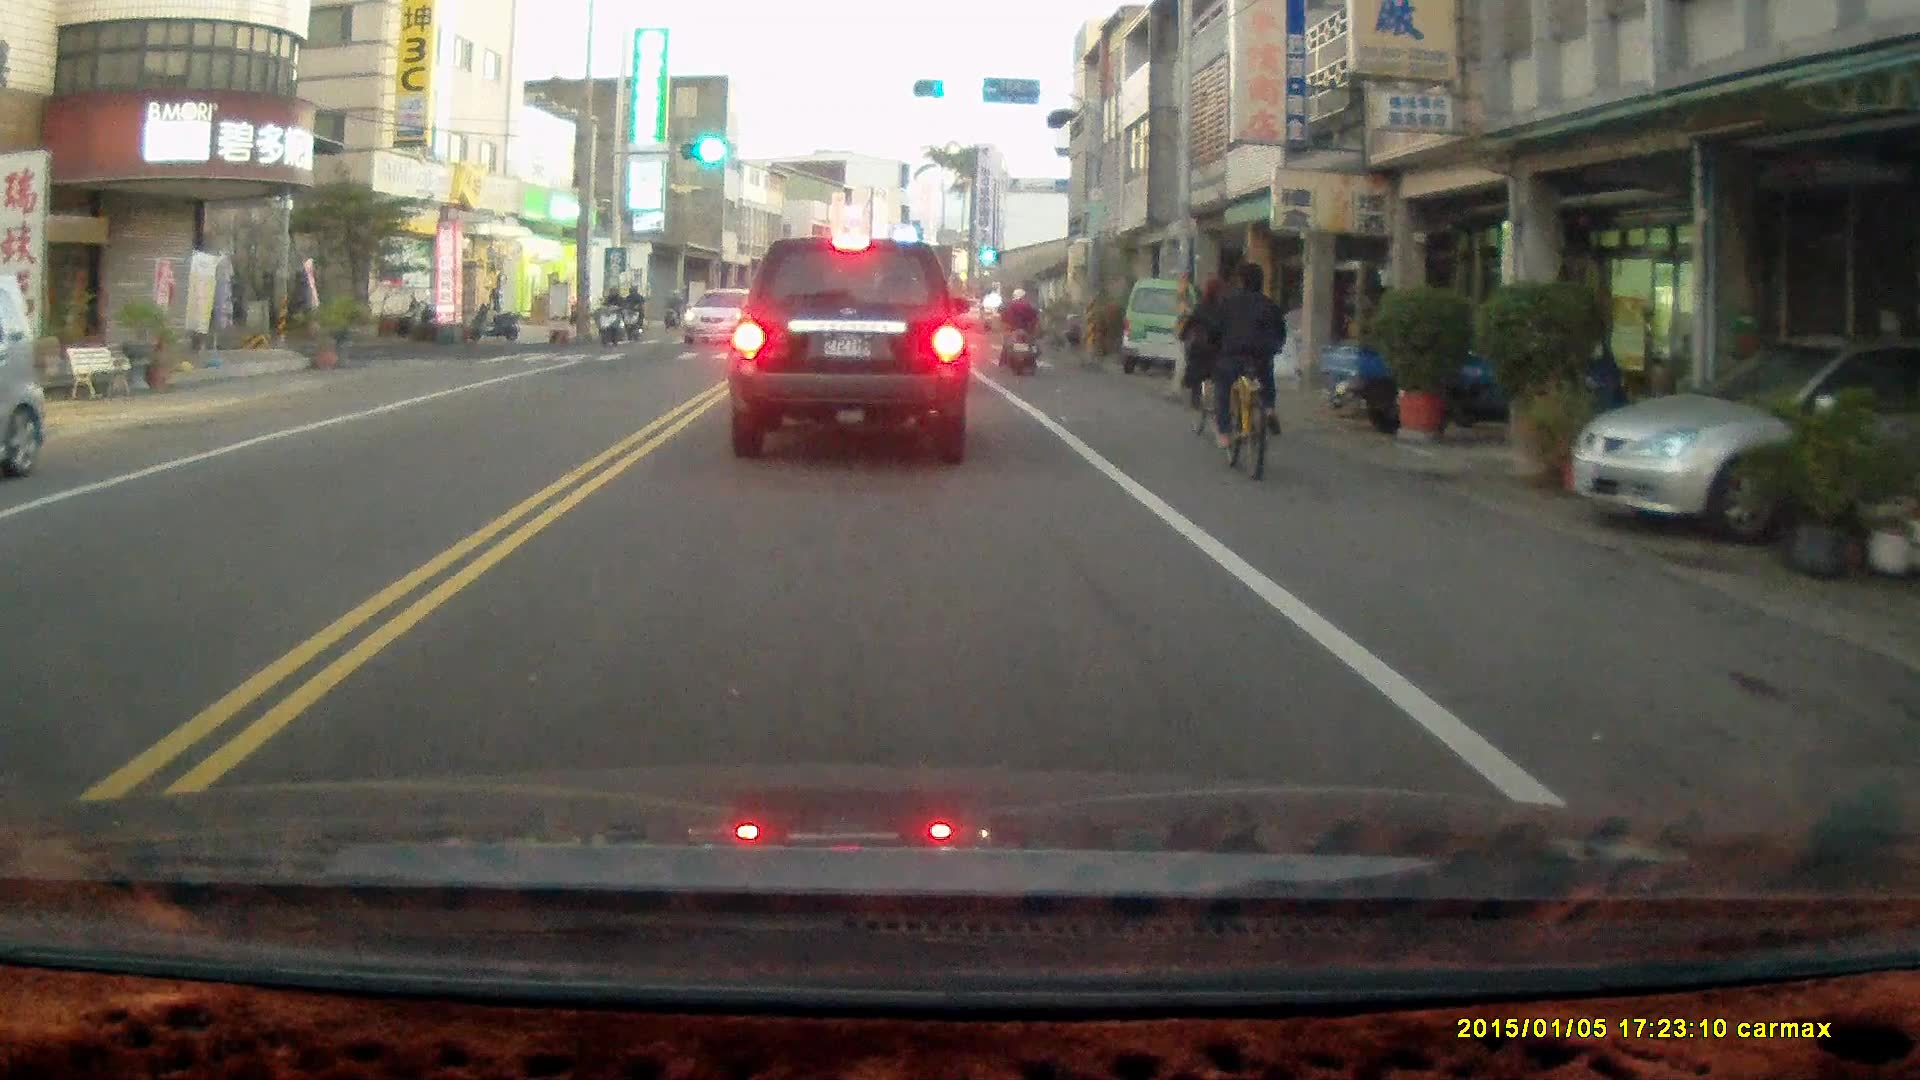pedestrian: (482, 262, 502, 314)
rider: (1204, 262, 1287, 479), (1177, 275, 1241, 445), (993, 284, 1045, 374), (593, 282, 627, 350), (618, 281, 644, 342), (661, 287, 681, 325)
vehicle: (1569, 338, 1920, 552), (734, 234, 973, 464), (1, 272, 52, 482), (1126, 277, 1222, 370), (678, 286, 775, 346)
